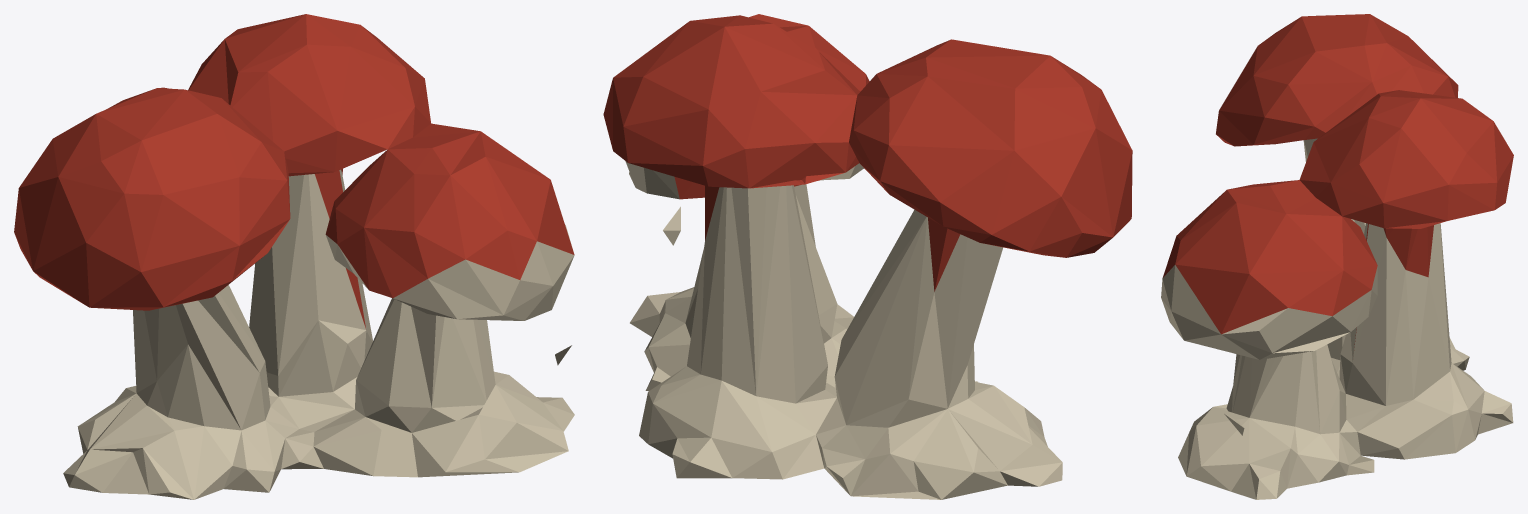
The model's file is mushroom-3.glb.
3 renders of one model, left to right at view 1: azimuth 30°, elevation 25°; view 2: azimuth 150°, elevation 25°; view 3: azimuth 270°, elevation 25°, orthographic. The views are drawn at different scales.
Parts seen in each view (by area): view 1: output_unwrapped; view 2: output_unwrapped; view 3: output_unwrapped.
Boxes of the visible parts, x1=… form: output_unwrapped: x1=14, y1=14, x2=574, y2=499; output_unwrapped: x1=603, y1=14, x2=1132, y2=499; output_unwrapped: x1=1161, y1=14, x2=1513, y2=499.
Size of the model in its own units: 0.7 by 0.5183 by 0.4993.
